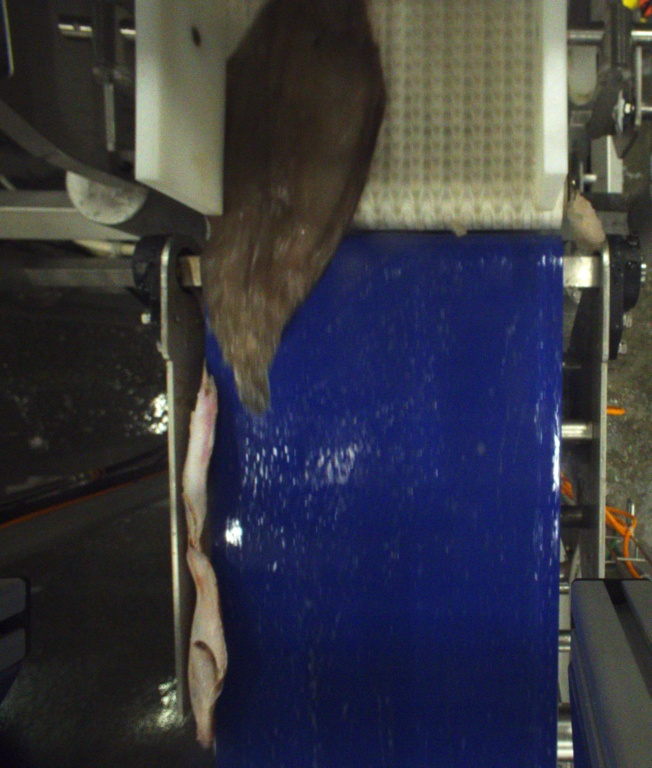SOL: (193, 0, 389, 412)
